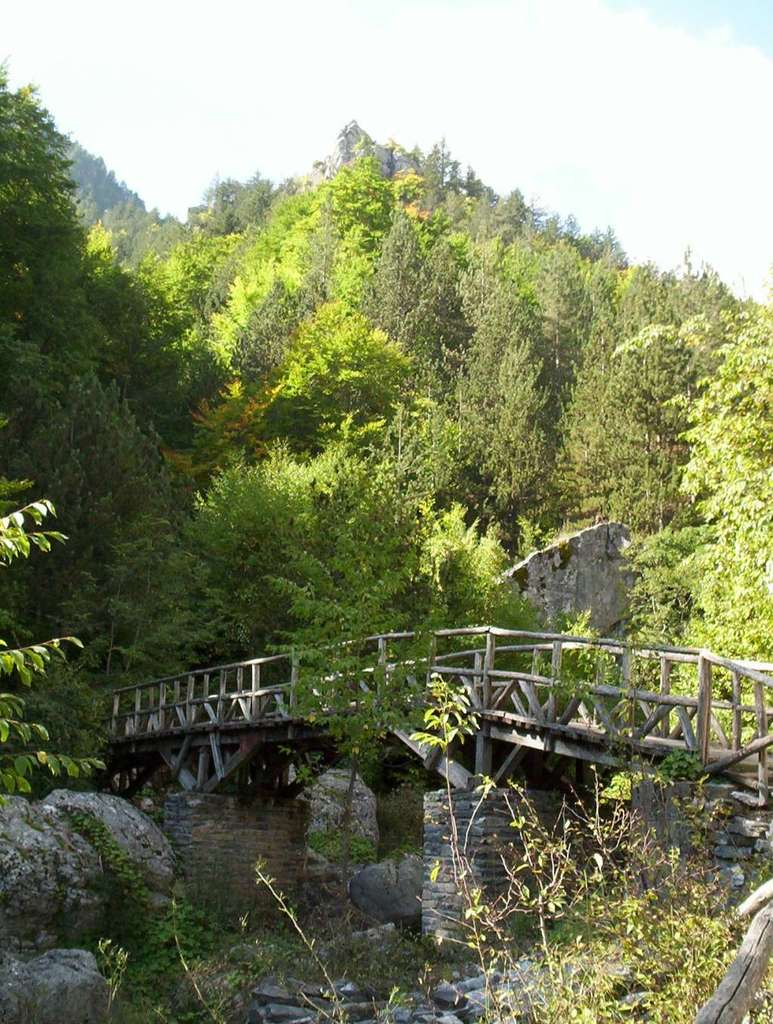Tree: (133, 139, 720, 561), (103, 764, 748, 1023), (149, 441, 554, 742), (0, 64, 172, 620), (635, 293, 772, 747), (0, 494, 112, 803)
